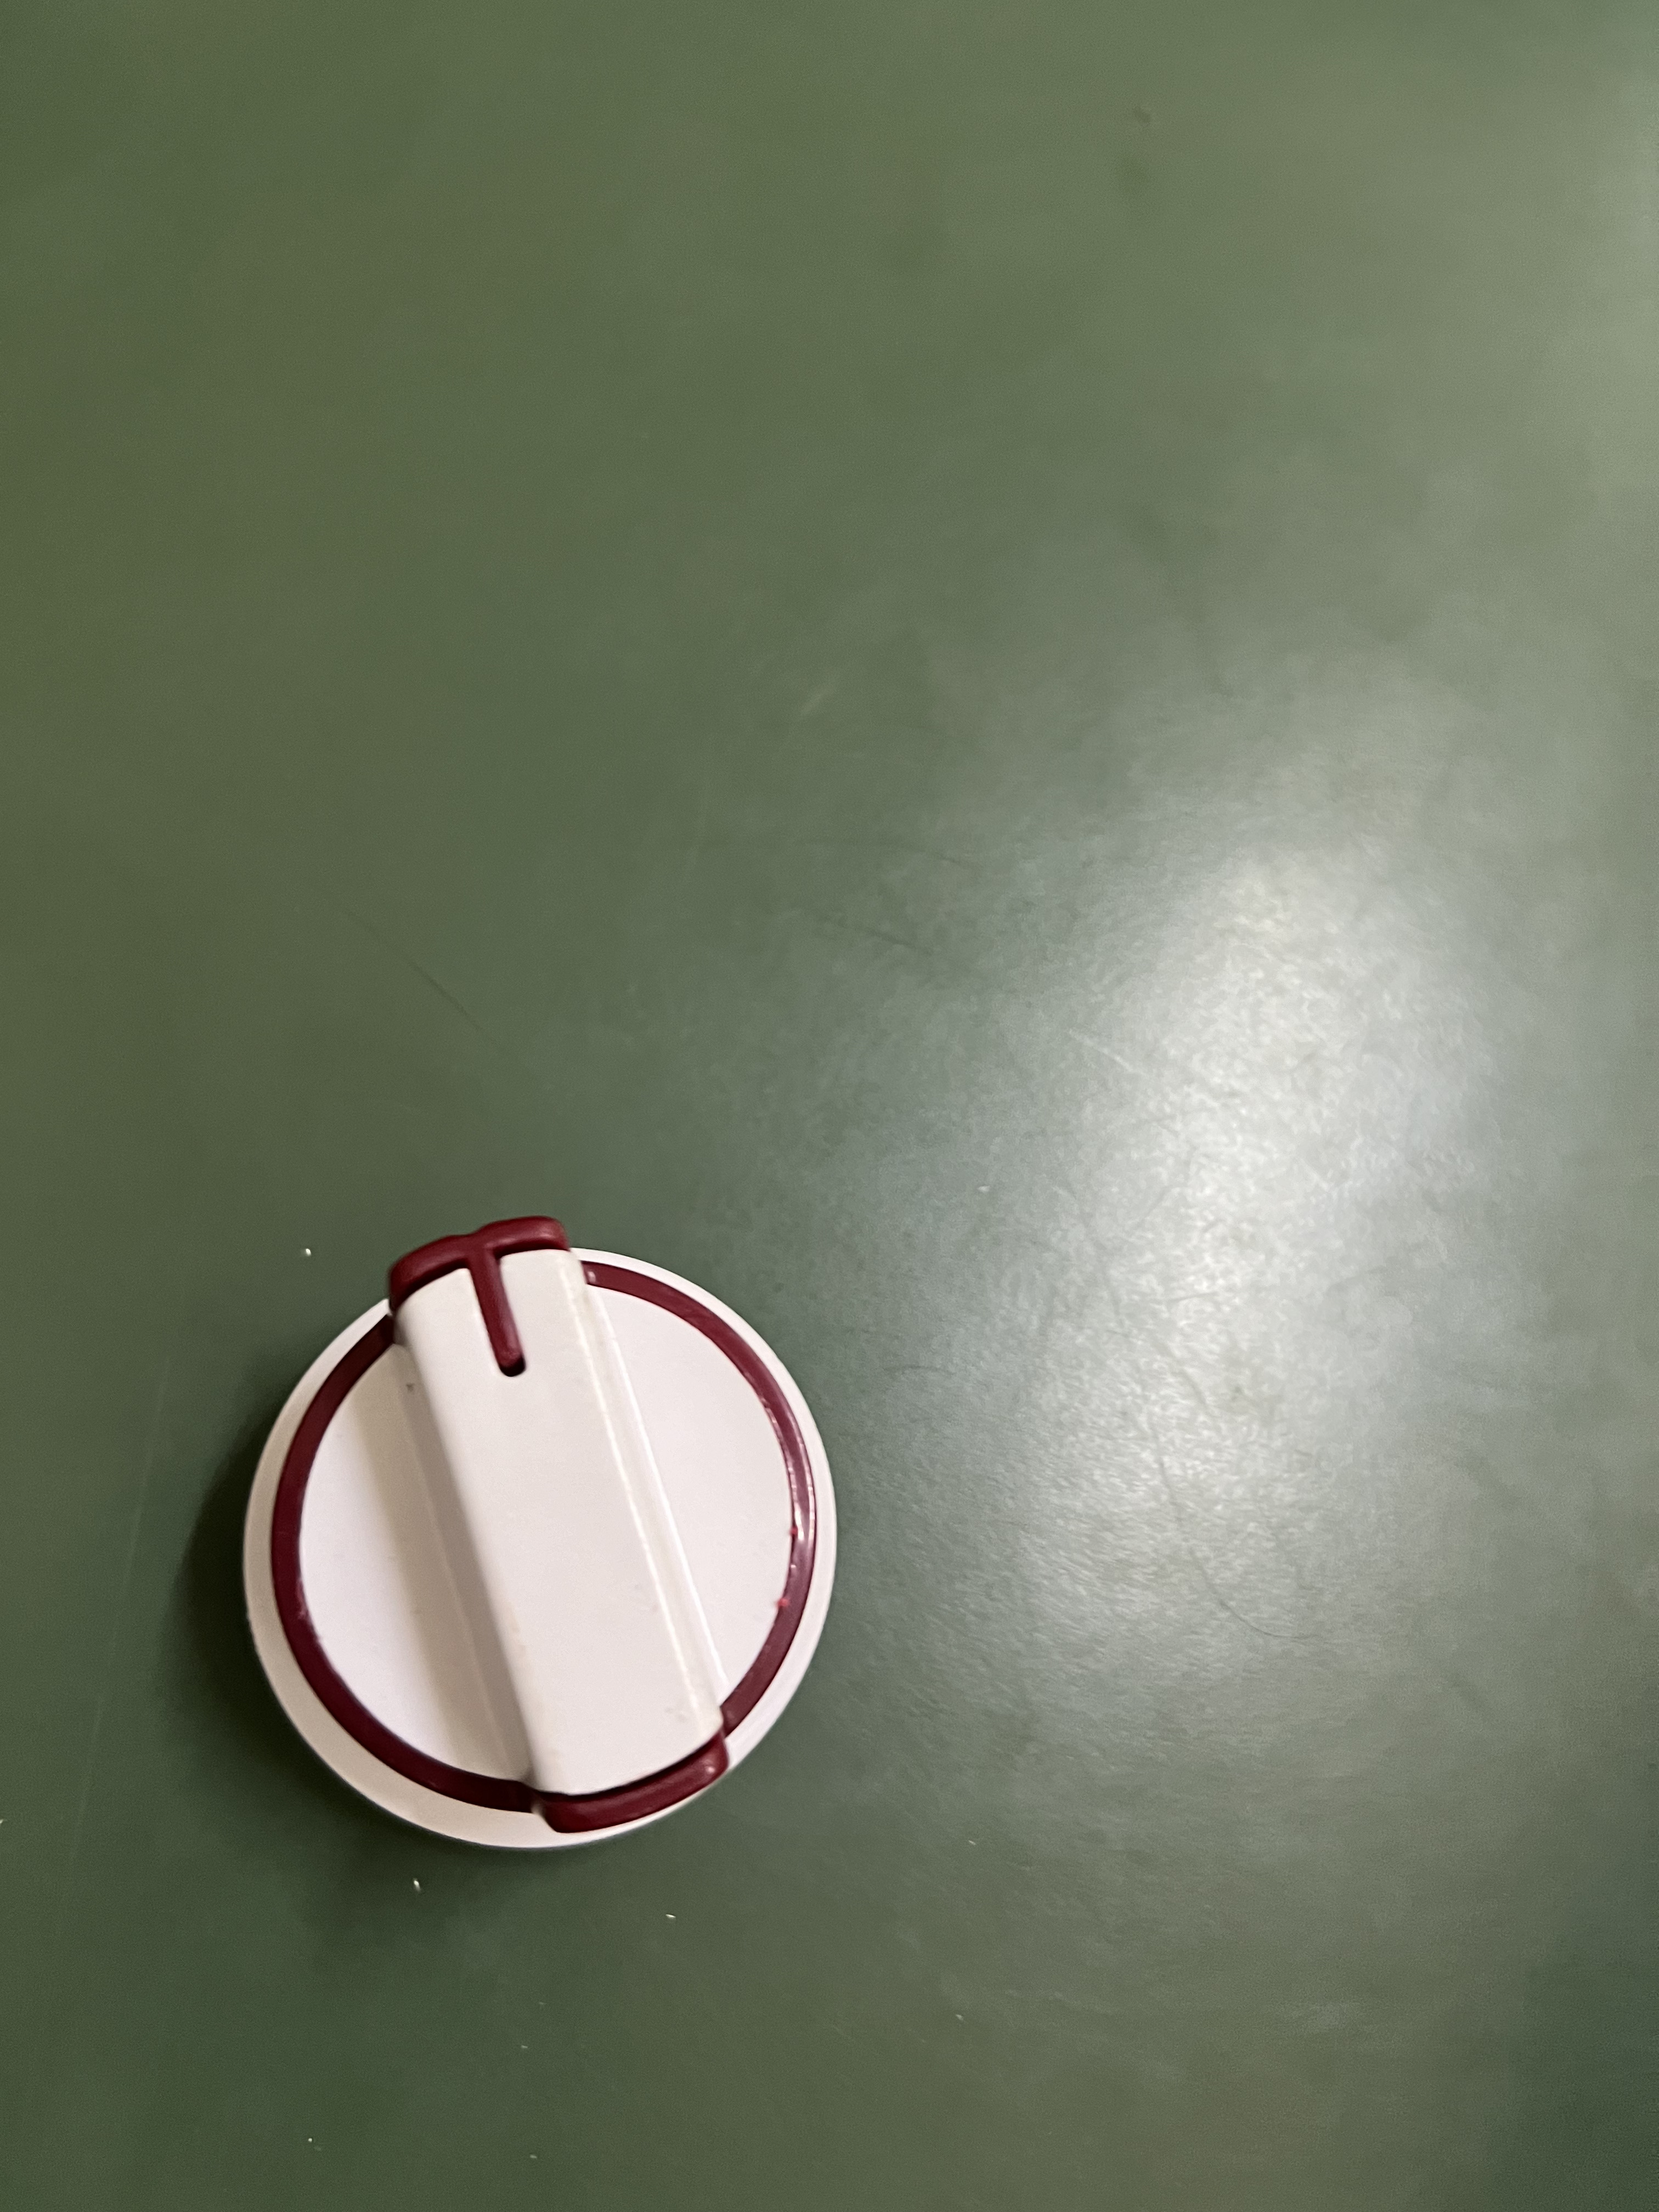regulator: (223, 1204, 863, 1865)
